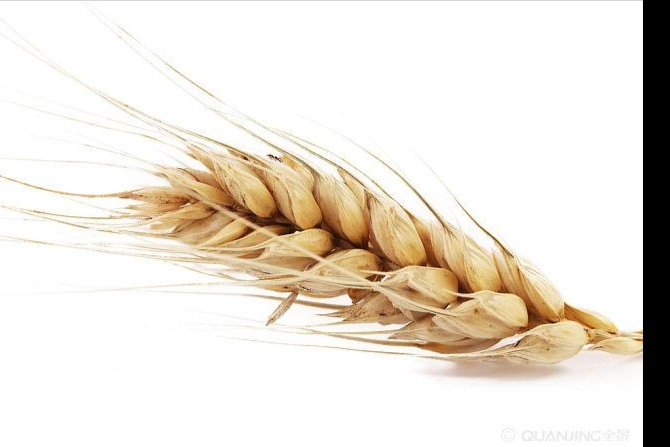wheat: (69, 97, 624, 353)
